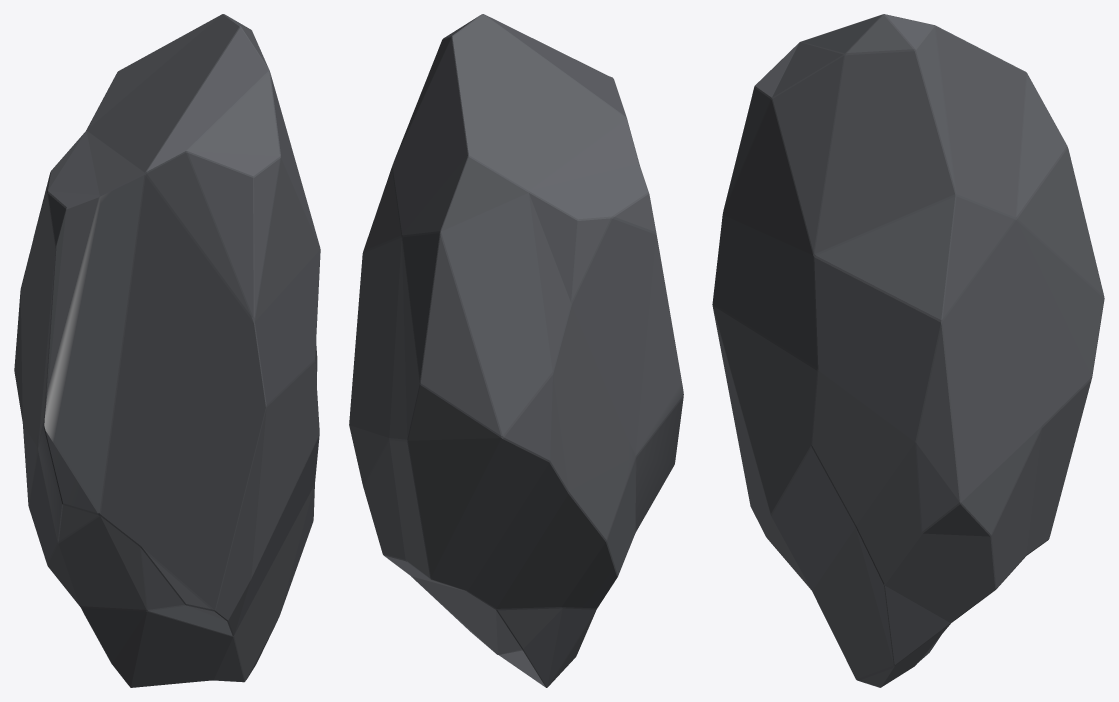
Rendered from batukecil.fbx.
3 renders of one model, left to right at view 1: azimuth 30°, elevation 25°; view 2: azimuth 150°, elevation 25°; view 3: azimuth 270°, elevation 25°, orthographic. The views are drawn at different scales.
Parts seen in each view (by area): view 1: Cube.013; view 2: Cube.013; view 3: Cube.013.
Boxes of the visible parts, x1,y1,x2,y2 form: Cube.013: [14, 14, 320, 687]; Cube.013: [349, 14, 683, 687]; Cube.013: [712, 14, 1104, 687].
Size of the model in its own units: 79.01 by 164 by 85.17.
